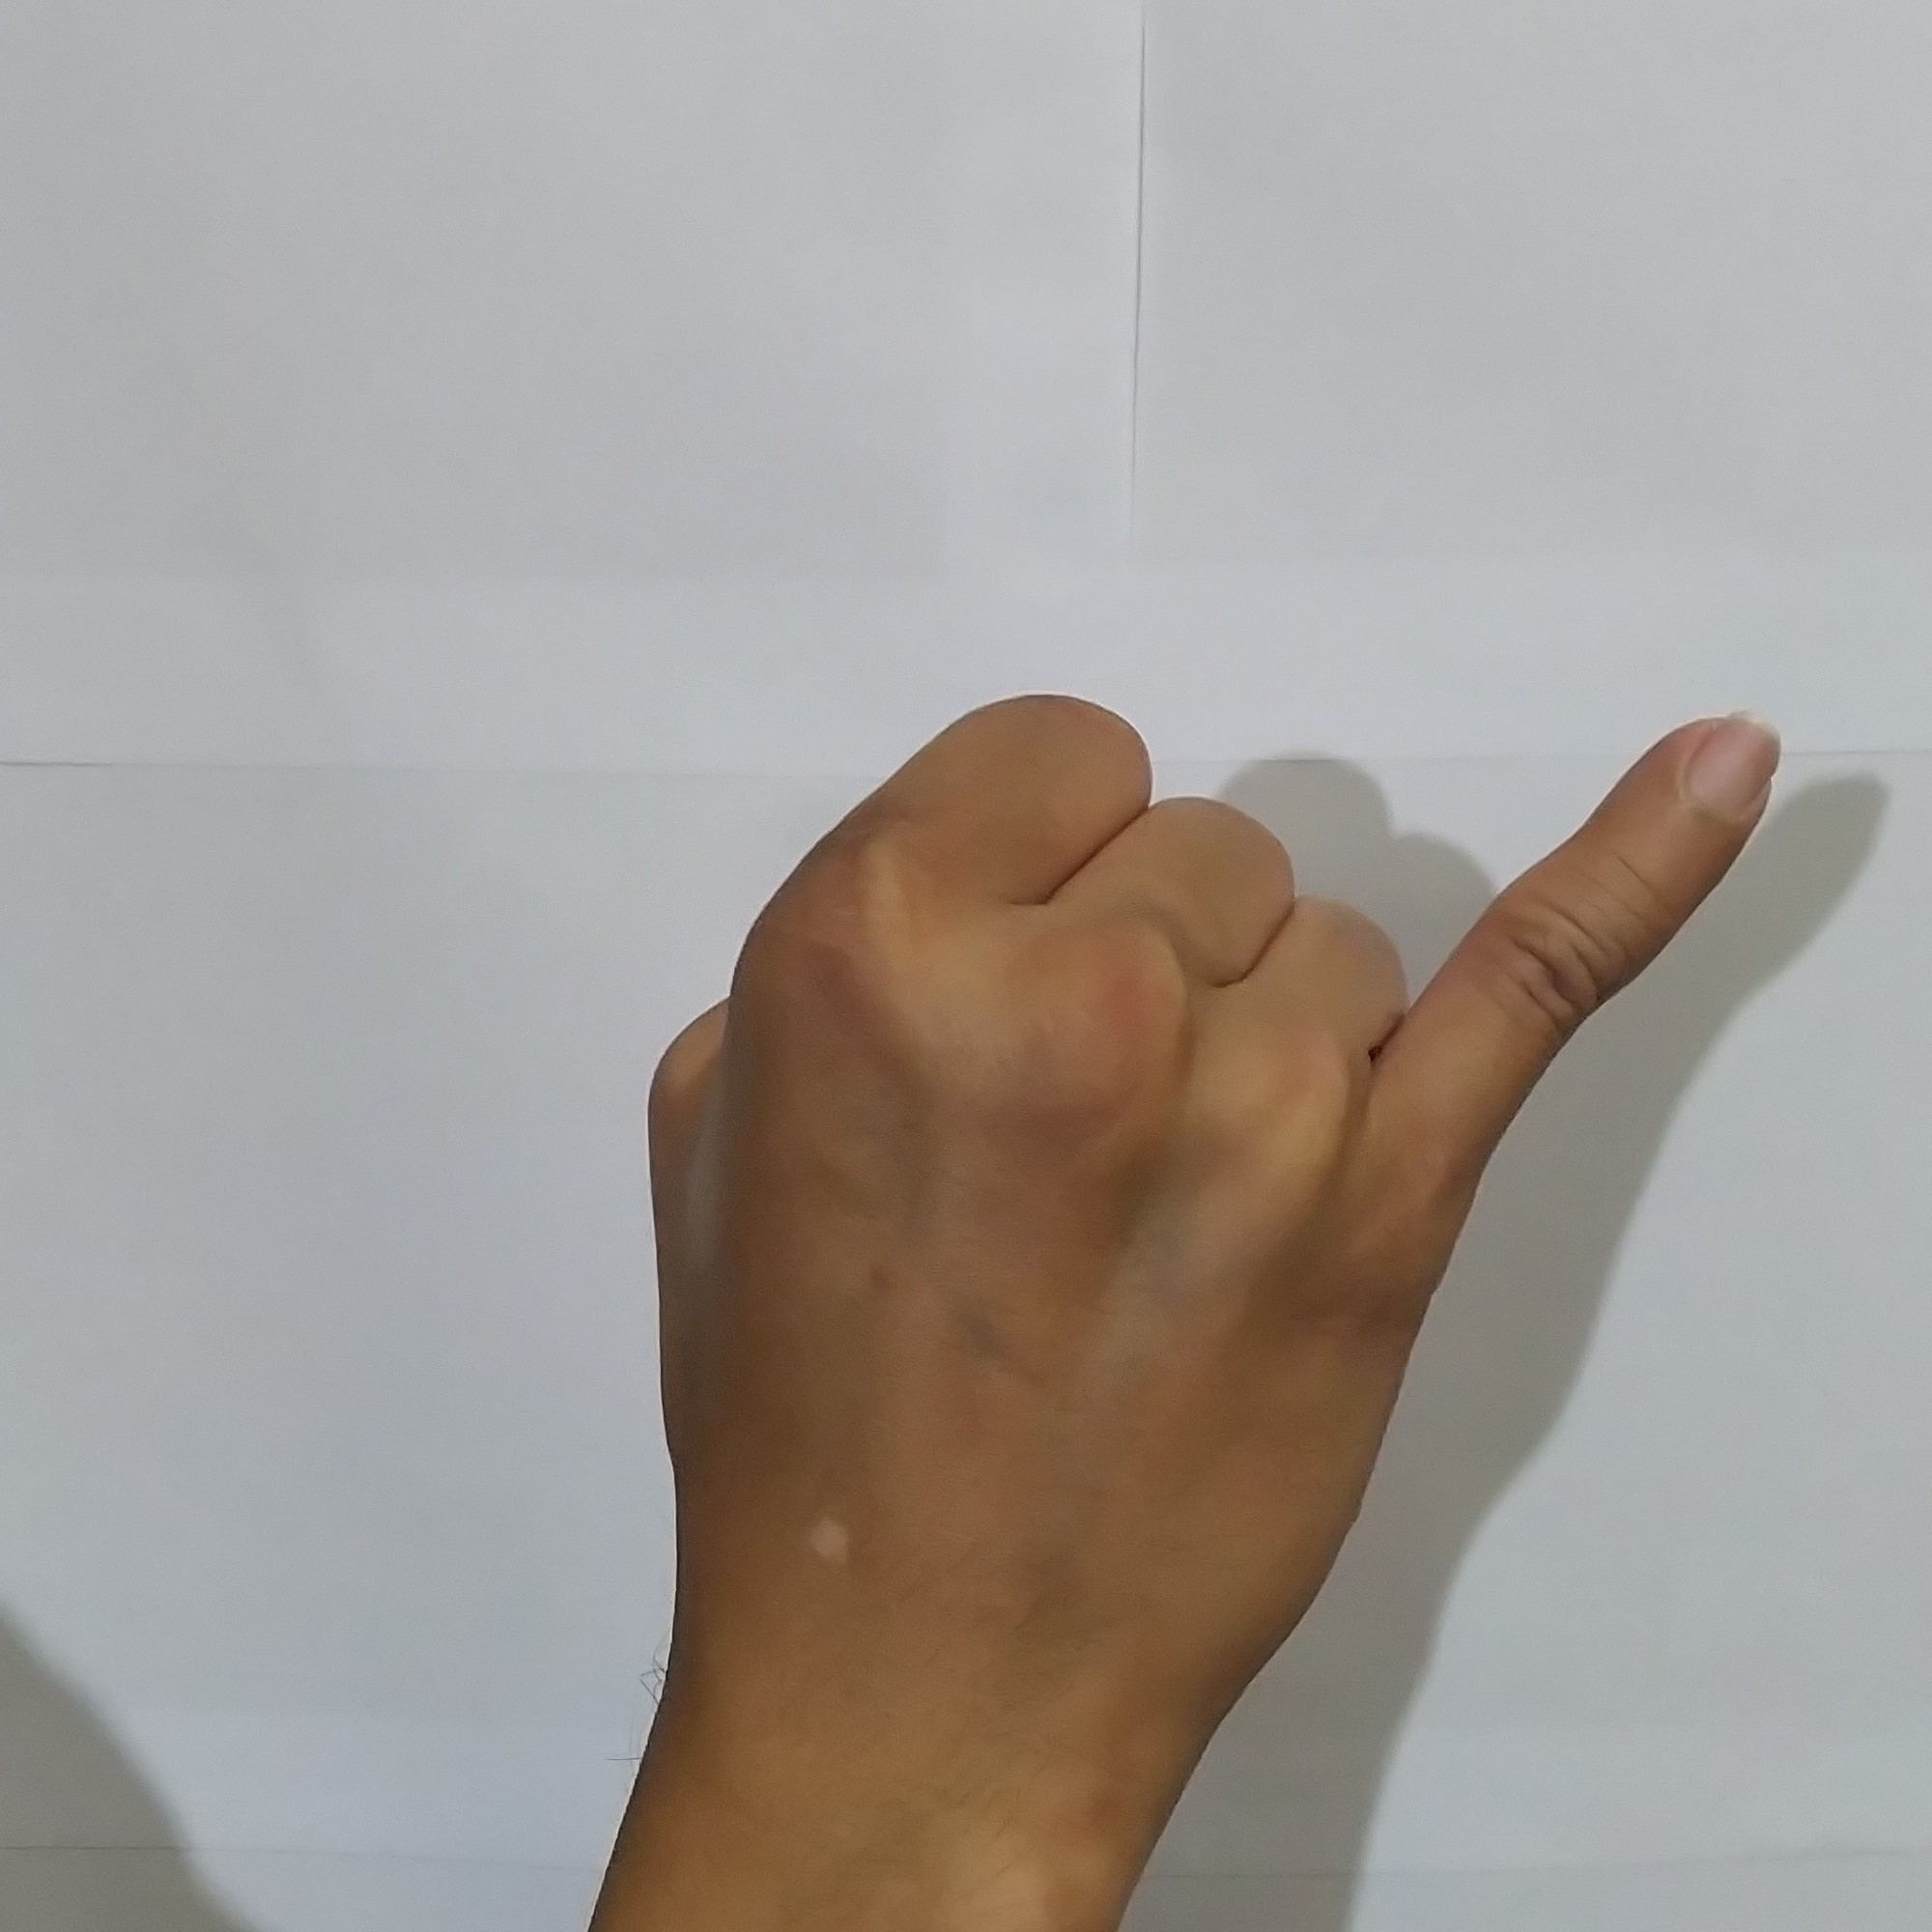J: (612, 655, 1792, 1663)
